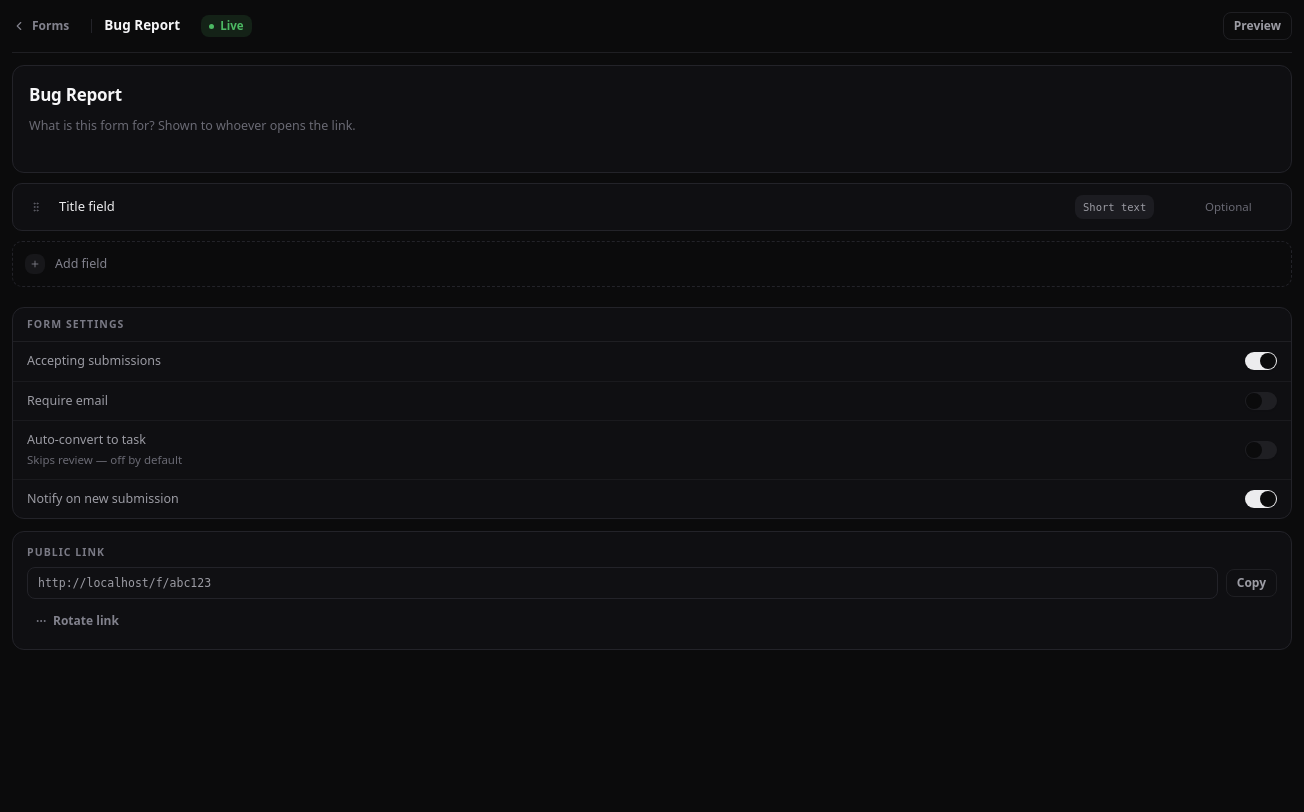
Scenario: ProjectFormBuilderPage › has no Save button and autosaves a change in the background
This screenshot has width=1304, height=812.
Check: the text "Title field" is shown, box x1=59 y1=197 x2=115 y2=215
Check: the button "Save" is not shown
Step 1. Type "!" into the field named "Form title" → (147, 26), box x1=104 y1=15 x2=189 y2=37
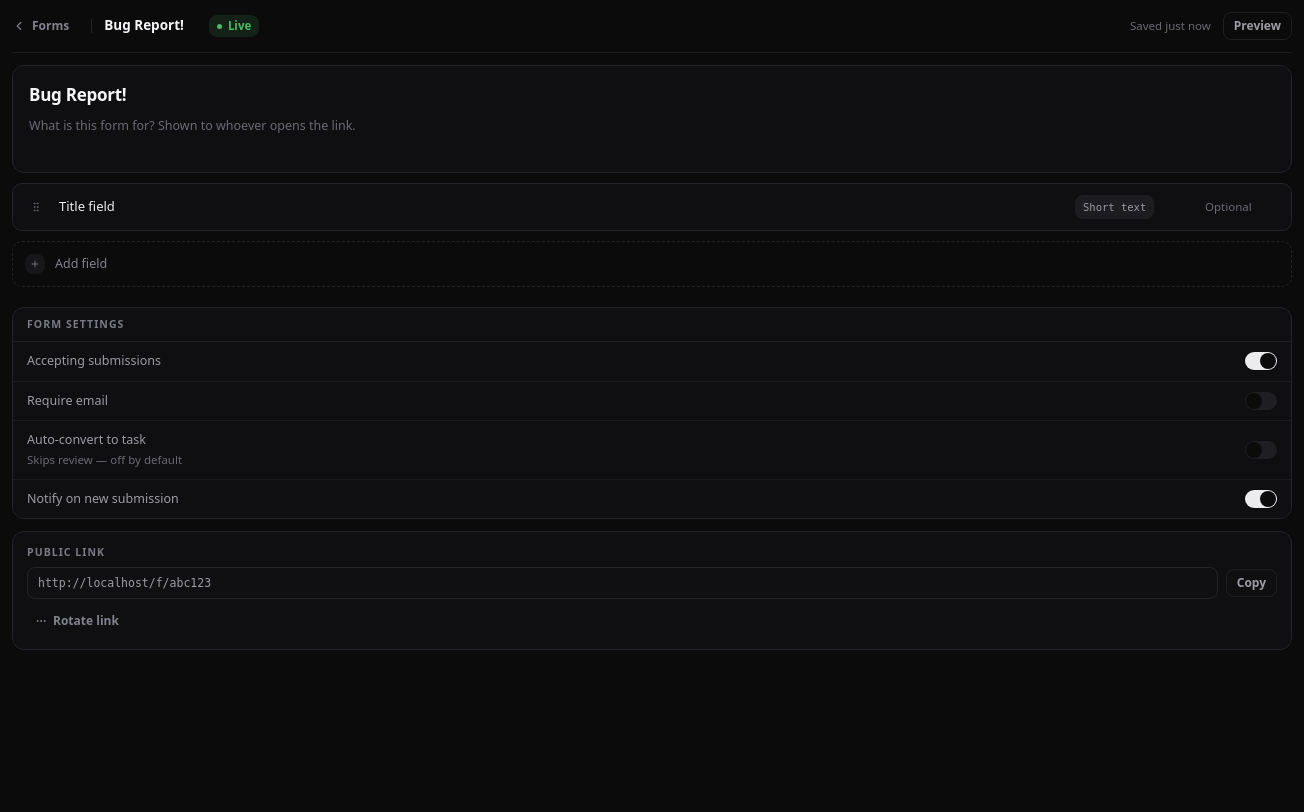
Check: the text "Saved just now" is shown, box x1=1130 y1=18 x2=1211 y2=34
